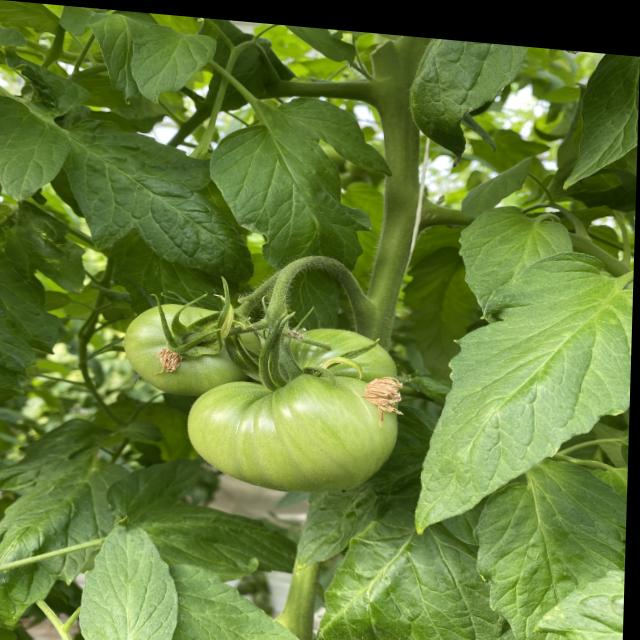yesil: (110, 284, 436, 496)
